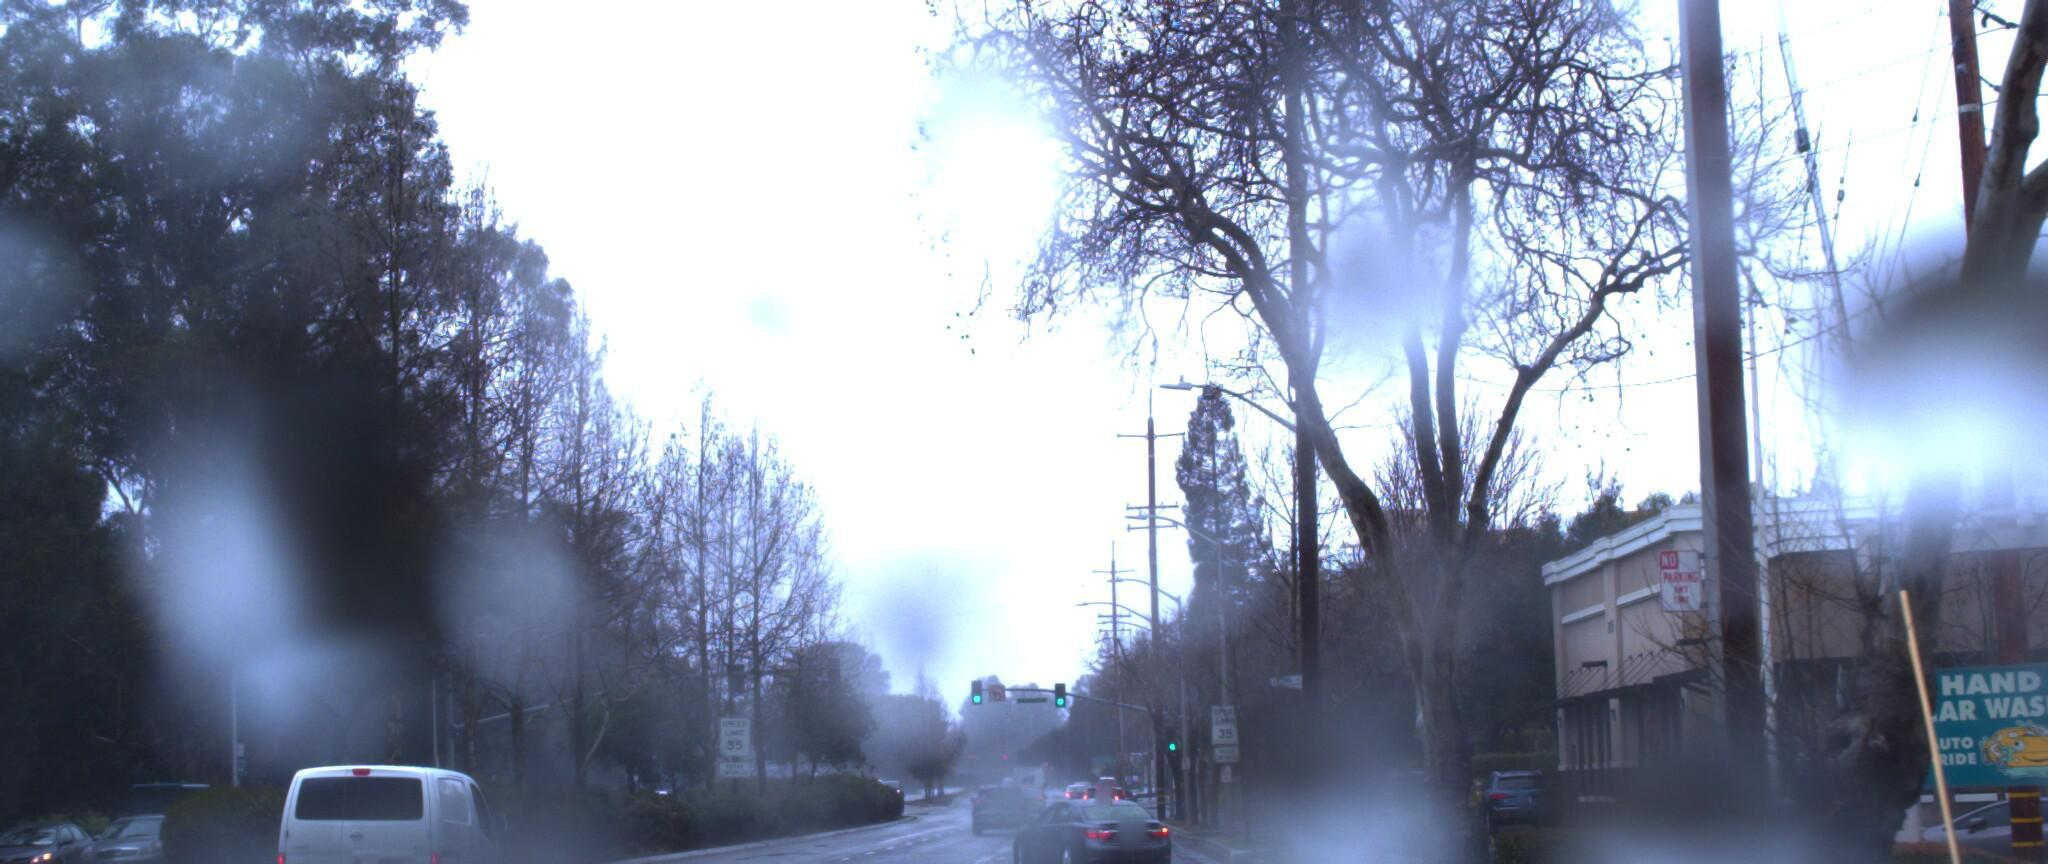car: (263, 743, 524, 864), (1843, 787, 2048, 864), (984, 787, 1177, 864)
